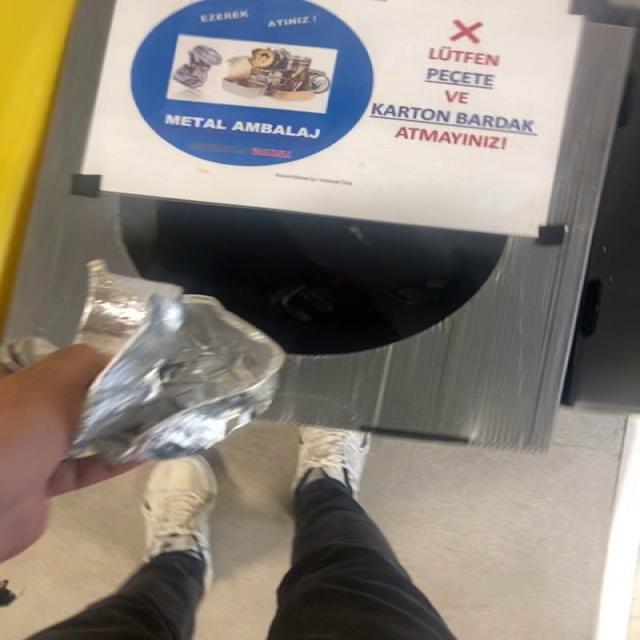metal: (65, 260, 283, 464)
